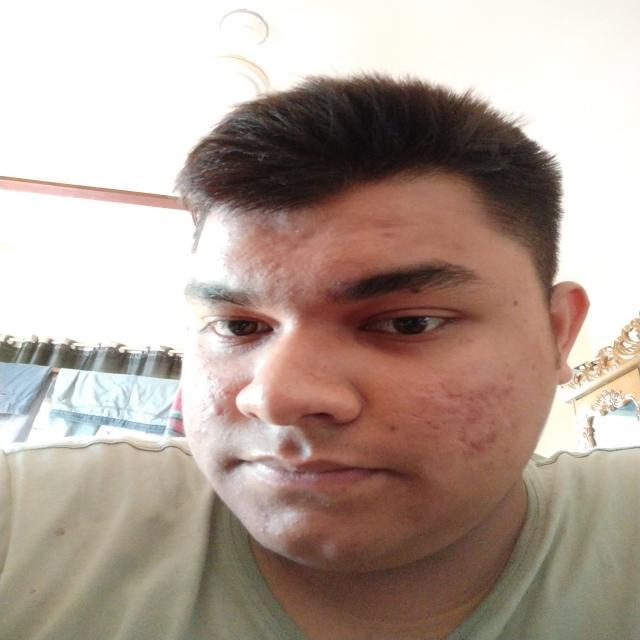Acne: (264, 254, 336, 310), (293, 510, 360, 564), (428, 392, 481, 442), (180, 388, 229, 428), (369, 200, 418, 240), (488, 280, 531, 320), (371, 416, 412, 448)
